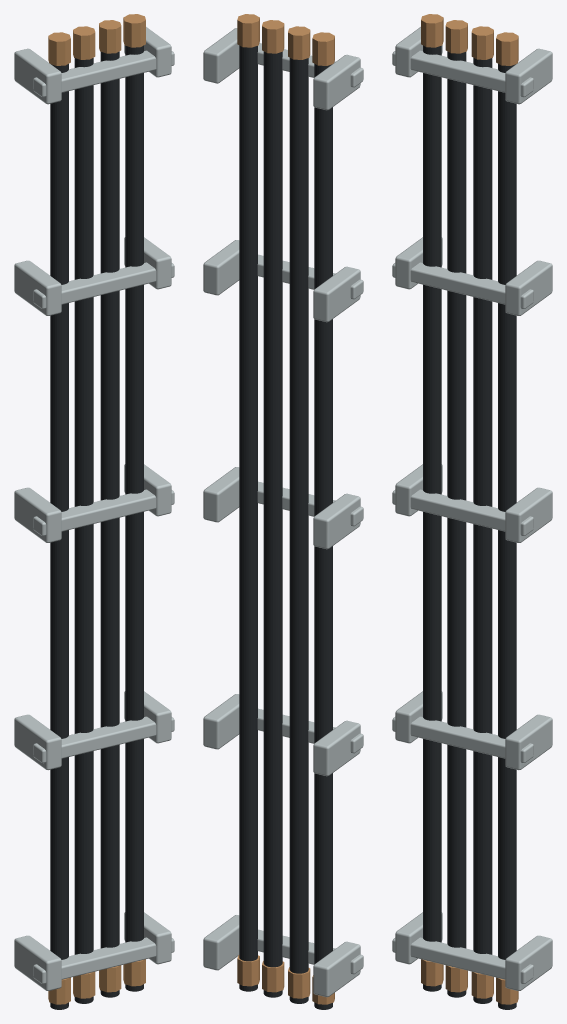
Rendered from broadcast-tower-and-relay-station-broadcast-tower-and--764baeb3__30247.glb.
3 views of the same model, side by side, from view 1: azimuth 30°, elevation 25°; view 2: azimuth 150°, elevation 25°; view 3: azimuth 330°, elevation 25° (orthographic).
Parts seen in each view (by area): view 1: broadcast-tower-and-relay-station-feeder-cable-riser; view 2: broadcast-tower-and-relay-station-feeder-cable-riser; view 3: broadcast-tower-and-relay-station-feeder-cable-riser.
Part boxes in pixels (x1,y1,x2,y2): broadcast-tower-and-relay-station-feeder-cable-riser: (14, 14, 174, 1009); broadcast-tower-and-relay-station-feeder-cable-riser: (203, 14, 363, 1009); broadcast-tower-and-relay-station-feeder-cable-riser: (392, 14, 552, 1009).
Bounding box in the file's own units: 0.4601 × 3.2 × 0.2001.
